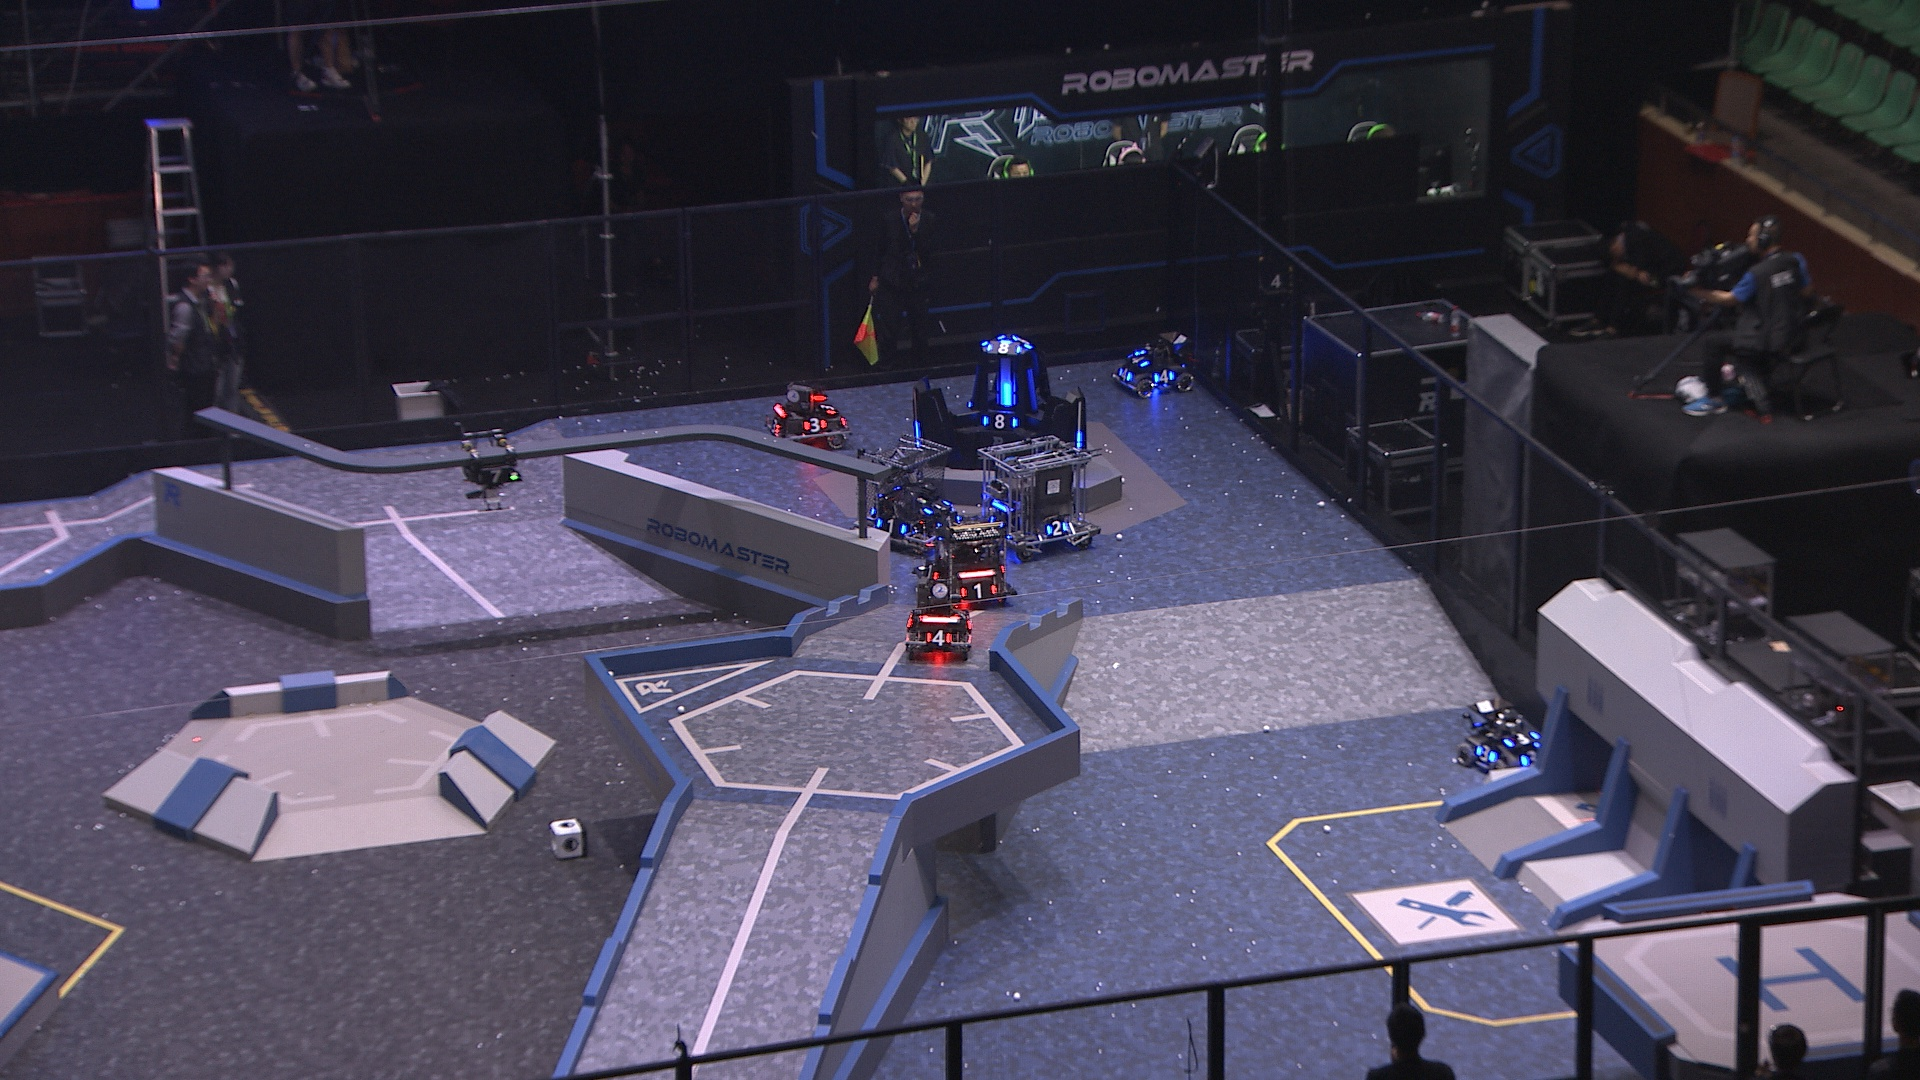armor: (472, 462, 522, 485), (957, 578, 1000, 603), (978, 409, 1017, 433), (1503, 727, 1543, 749), (923, 626, 955, 651), (874, 513, 907, 537), (1472, 741, 1501, 767), (932, 509, 964, 531), (984, 339, 1025, 356), (764, 413, 789, 440), (918, 493, 951, 513), (1026, 372, 1040, 411), (1520, 749, 1545, 771), (1043, 520, 1069, 541), (920, 560, 945, 582), (1125, 349, 1153, 368), (800, 415, 829, 433), (1154, 367, 1178, 386), (997, 380, 1013, 409), (820, 396, 840, 417), (1114, 365, 1133, 385), (1073, 429, 1084, 455), (913, 422, 922, 446)
base: (909, 323, 1087, 473)
car: (975, 431, 1097, 556), (849, 434, 968, 560), (913, 508, 1025, 616), (1453, 698, 1553, 781), (760, 378, 852, 452), (1106, 328, 1199, 396), (902, 574, 973, 661)
watcher: (455, 427, 522, 513)
